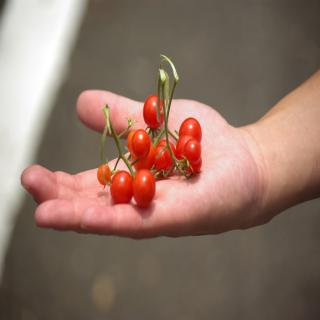tomato: (130, 166, 156, 202), (109, 167, 133, 204), (146, 94, 164, 130), (157, 138, 178, 168), (130, 128, 149, 160), (176, 133, 194, 165), (178, 118, 202, 142), (182, 136, 201, 164), (153, 142, 169, 175), (138, 140, 158, 166), (96, 163, 112, 188), (126, 127, 138, 156), (188, 158, 203, 172)
